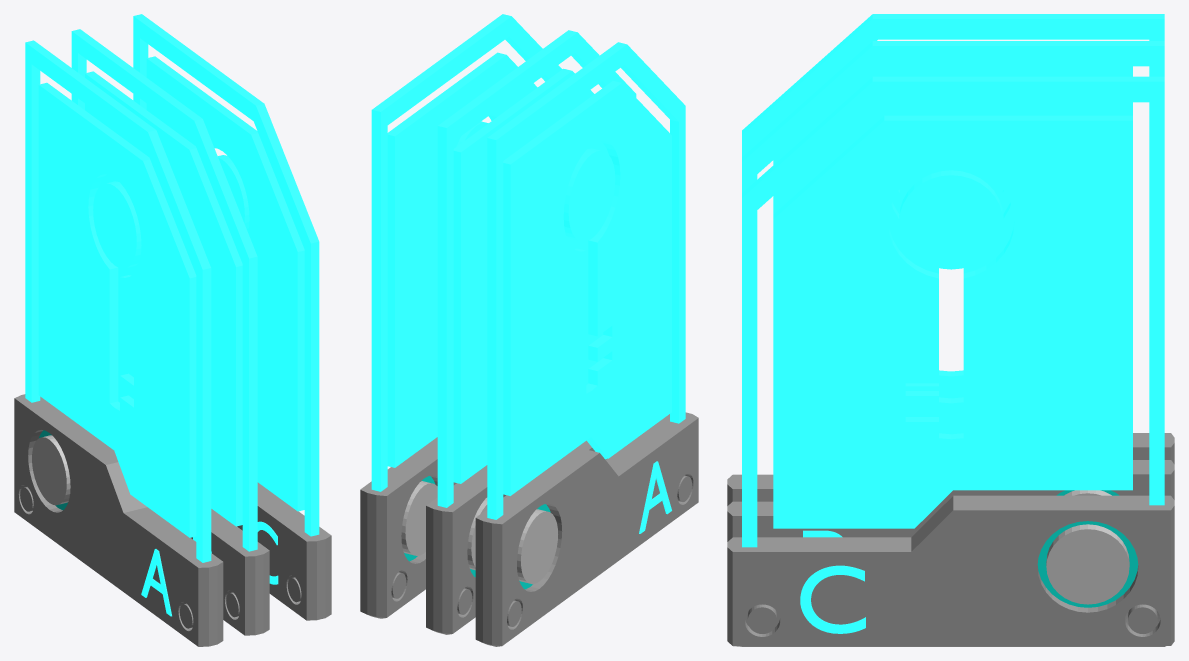
The model's file is KeyA.fbx.
3 views of the same model, side by side, from view 1: azimuth 30°, elevation 25°; view 2: azimuth 150°, elevation 25°; view 3: azimuth 270°, elevation 25° (orthographic). The views are drawn at different scales.
Parts seen in each view (by area): view 1: KeyA, KeyA.002, KeyA.001; view 2: KeyA, KeyA.002, KeyA.001; view 3: KeyA.002, KeyA.001, KeyA.
Boxes of the visible parts, box(x1,y1,x2,y2) form: KeyA: box(14, 40, 223, 646); KeyA.002: box(133, 14, 331, 620); KeyA.001: box(71, 29, 269, 635); KeyA: box(475, 42, 698, 646); KeyA.002: box(360, 14, 562, 618); KeyA.001: box(426, 30, 636, 634); KeyA.002: box(727, 76, 1174, 646); KeyA.001: box(727, 41, 1174, 541); KeyA: box(727, 14, 1174, 505).
Size of the model in its own units: 121 by 405 by 291.
